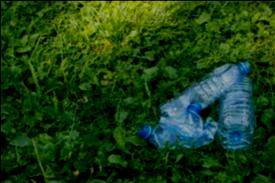Plastic: (148, 51, 250, 127), (132, 114, 219, 156), (218, 72, 257, 153)
